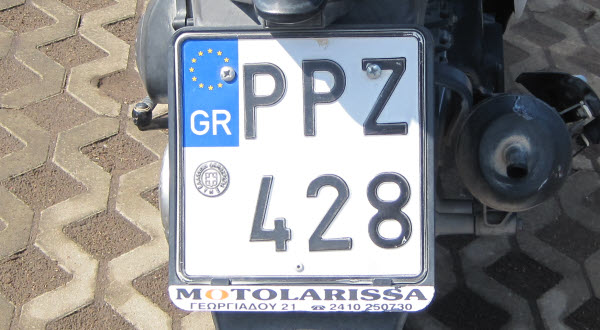license_plate: (174, 29, 427, 286)
